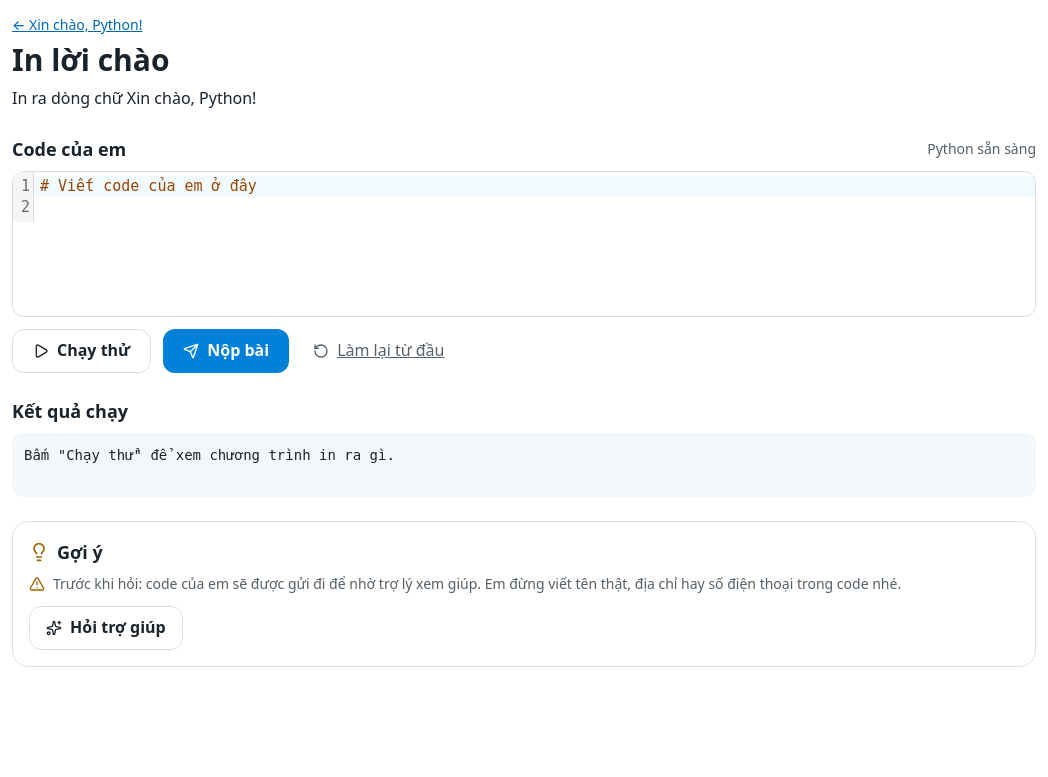
Test case: ExercisePage › lỗi Python hiện bằng tiếng Việt kèm số dòng, giữ lỗi gốc trong phần chi tiết
Click the button "Chạy thử": (82, 351) [12,329,151,373]
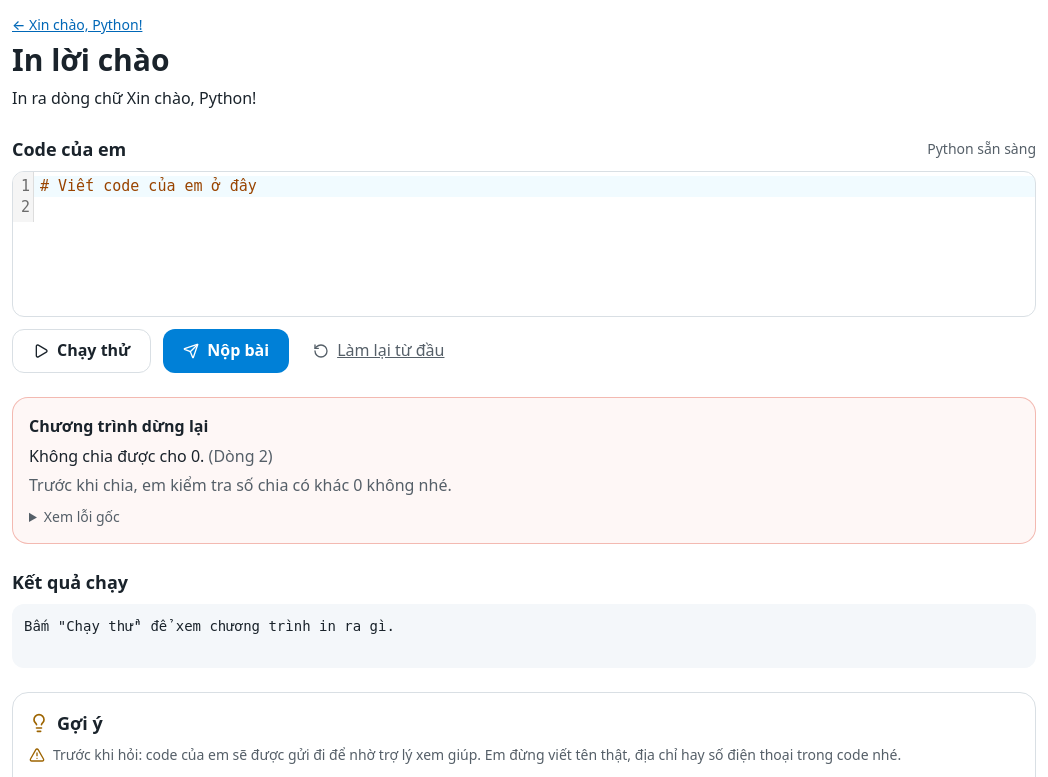
Result: the message with test id "exercise-error" shows "Không chia được cho 0" at [29,445,204,467]
